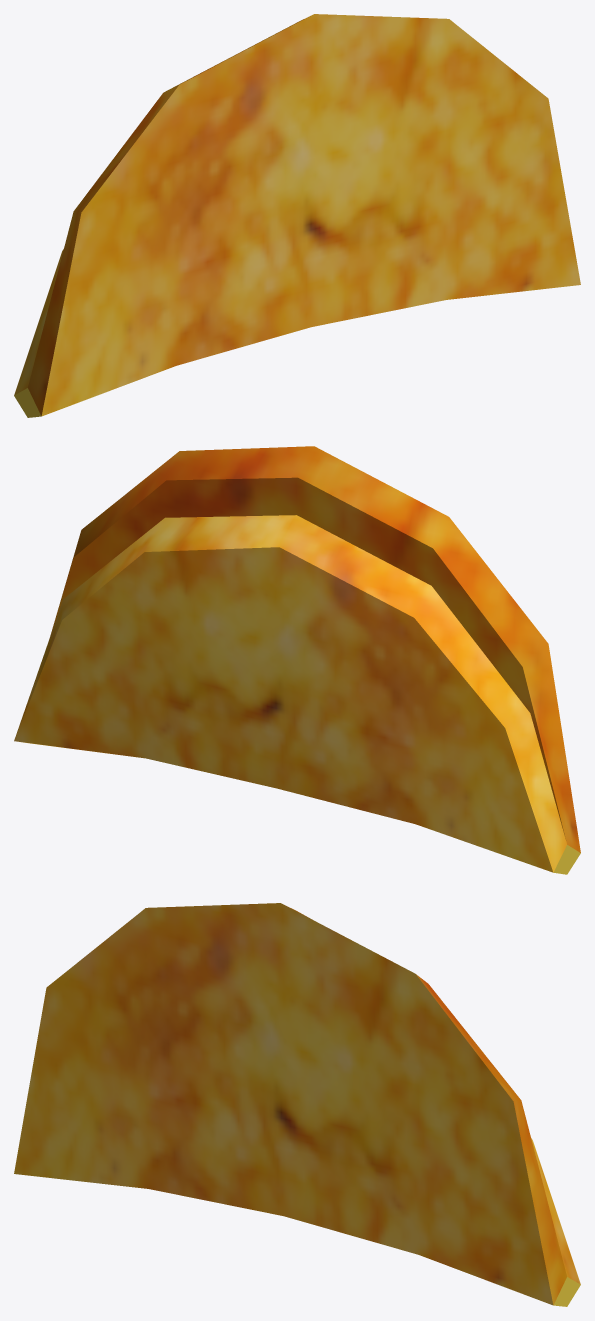
The model's file is Omelette.fbx.
3 renders of one model, top to bottom at view 1: azimuth 30°, elevation 25°; view 2: azimuth 150°, elevation 25°; view 3: azimuth 330°, elevation 25°, orthographic.
Visible parts, largest first — view 1: Omelette; view 2: Omelette; view 3: Omelette.
Part boxes in pixels (box(x1,y1,x2,y2)): Omelette: box(14, 14, 580, 417); Omelette: box(14, 446, 580, 874); Omelette: box(14, 903, 580, 1306).
Size of the model in its own units: 184 by 114 by 24.86.
